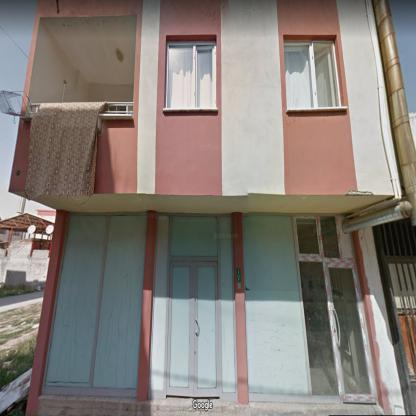door: (324, 263, 377, 404), (167, 262, 219, 396), (383, 260, 415, 410)
window: (42, 212, 148, 395), (150, 214, 238, 398), (243, 216, 310, 402), (294, 216, 353, 404), (285, 40, 341, 109), (165, 42, 215, 106)
